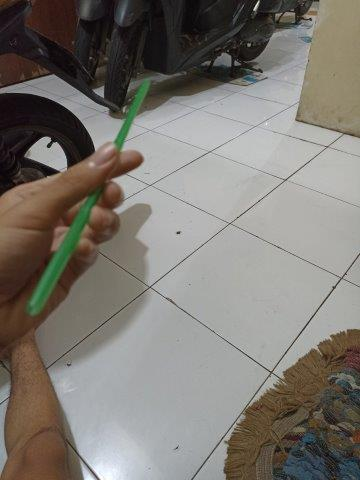sedotan: (35, 82, 150, 310)
